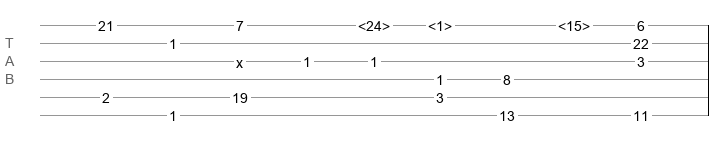1: (169, 36, 177, 46), (169, 108, 177, 118), (303, 54, 311, 64), (370, 54, 378, 64), (436, 72, 444, 82)
11: (633, 108, 649, 118)
13: (499, 108, 515, 118)
19: (232, 90, 248, 100)
2: (102, 90, 110, 100)
21: (98, 18, 114, 28)
22: (633, 36, 649, 46)
3: (436, 90, 444, 100), (637, 54, 645, 64)
6: (637, 18, 645, 28)
7: (236, 18, 244, 28)
8: (503, 72, 511, 82)
harmonic: (358, 18, 390, 28), (558, 18, 590, 28), (428, 18, 452, 28)
x: (236, 55, 243, 63)
